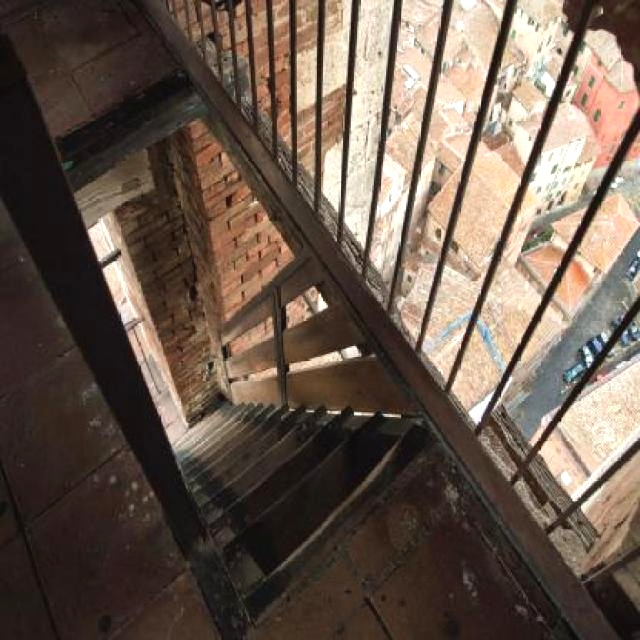stair: (170, 392, 435, 632)
